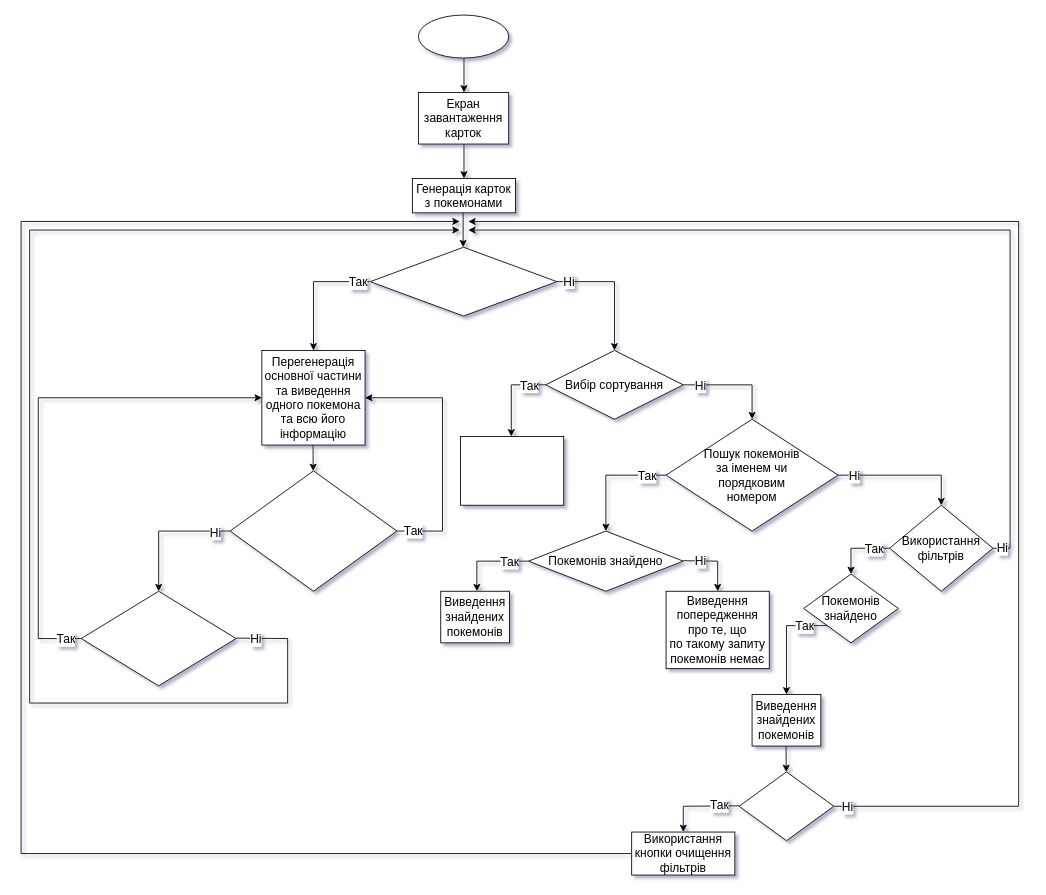
Image size: 1046x895. Some labels were removed from this diagram. The shapes that lost their labels are listed below. From the top down, each one's centre as x and y in pixels, then its label:
At point (463, 36): "Початок".
At point (463, 281): "Перехід на картку вибраного покемона".
At point (512, 470): "Виведення карток у тому порядку, як було сказано у сортуванні".
At point (313, 530): "Використання кнопок попередній та наступний покемон".
At point (158, 638): "Перемикання на інших покемонів в еволюції".
At point (786, 806): "Очищення фільтрів".
